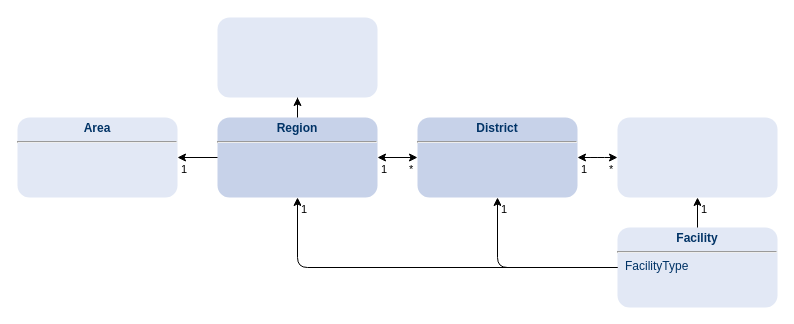
Image size: 794x324. Some labels were removed from this diagram. The shapes that lost their labels are listed below. From the top down, each one's centre as x and y in pixels, then its label:
point (297, 57): Country Subcontinent --> Continent
point (697, 157): Community
